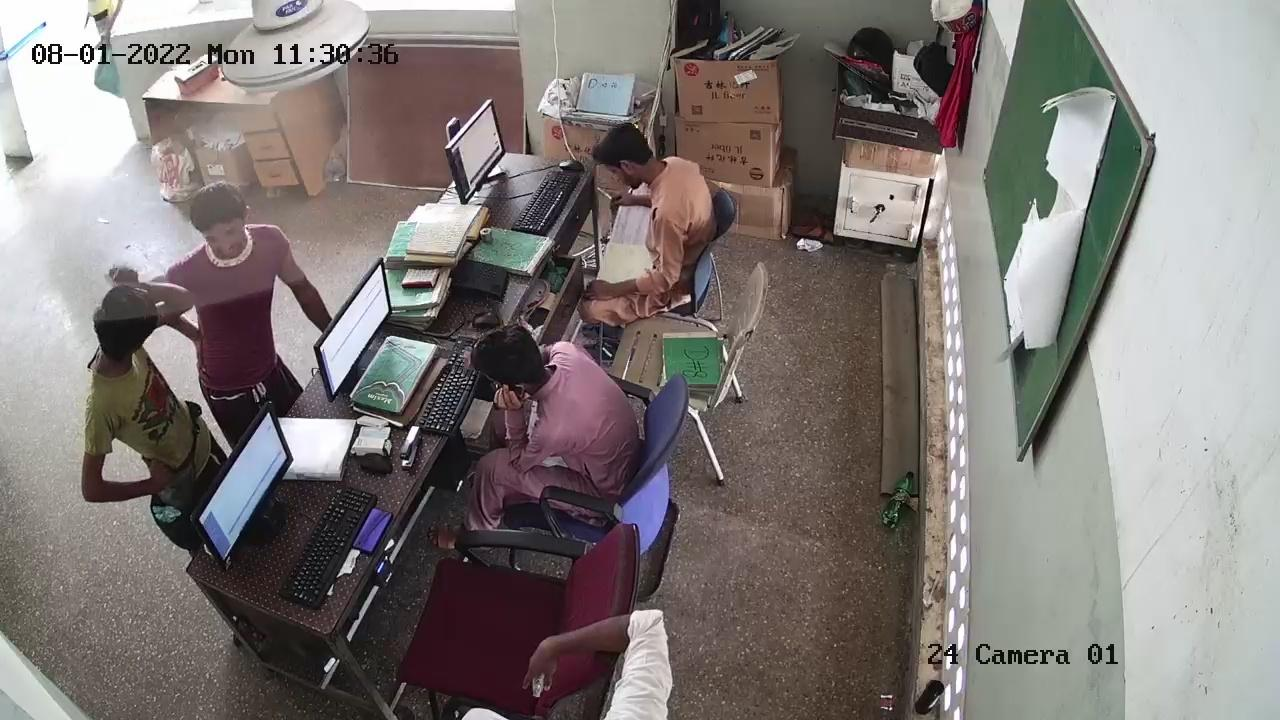person: (174, 197, 295, 410), (489, 332, 629, 510), (92, 305, 207, 513), (594, 128, 720, 315)
